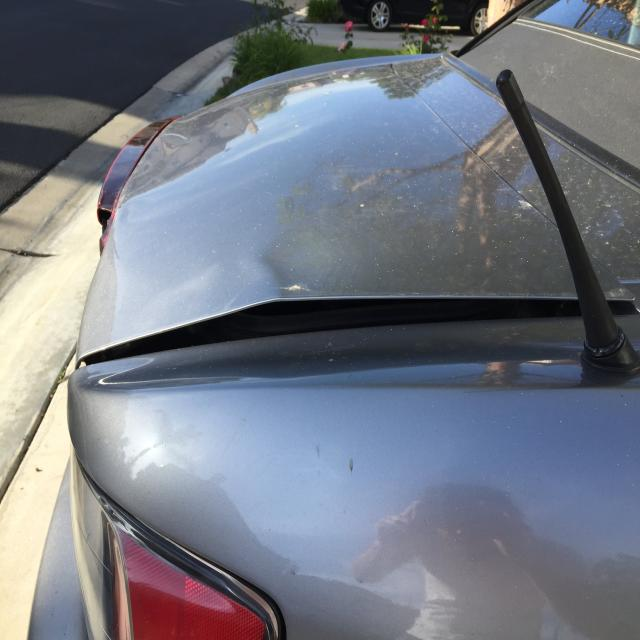dent: (243, 222, 344, 296)
misalignment: (73, 295, 640, 366)
scratch: (270, 283, 311, 292)
